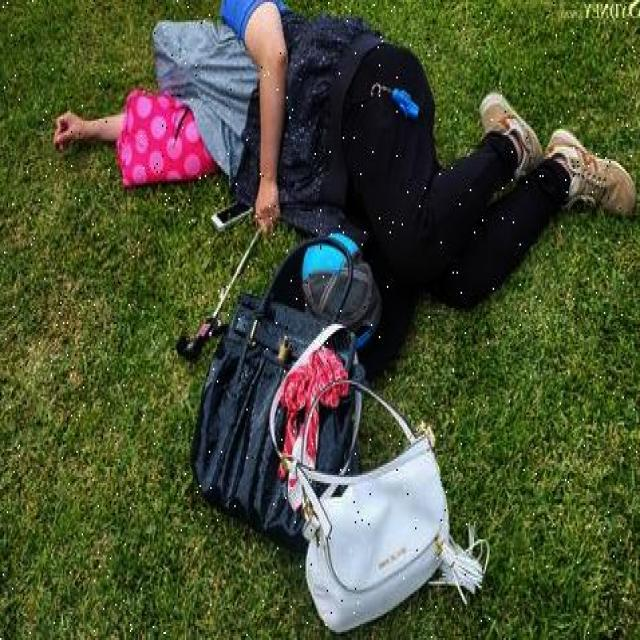fall: (103, 1, 600, 258)
